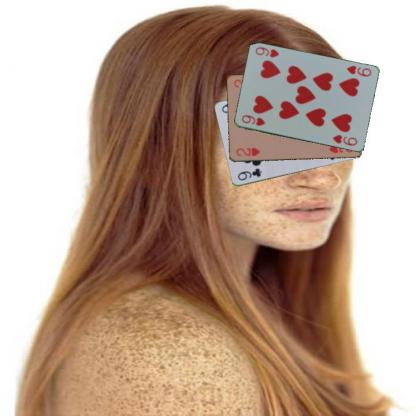2h: (234, 145, 261, 158)
9c: (235, 166, 263, 182)
9h: (344, 63, 372, 78), (239, 113, 266, 127)
